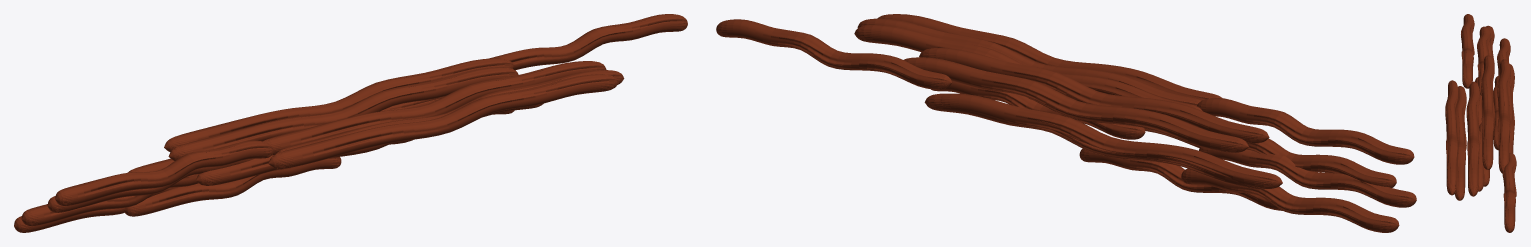
File: meatonly.fbx
3 renders of one model, left to right at view 1: azimuth 30°, elevation 25°; view 2: azimuth 150°, elevation 25°; view 3: azimuth 270°, elevation 25°, orthographic. The views are drawn at different scales.
Visible parts, largest first — view 1: Cylinder, Cylinder.001, Cylinder.009, Cylinder.002, Cylinder.004, Cylinder.007, Cylinder.018, Cylinder.021, Cylinder.005, Cylinder.014, Cylinder.003, Cylinder.020 (+1 smaller); view 2: Cylinder.004, Cylinder.022, Cylinder.001, Cylinder.007, Cylinder.002, Cylinder.021, Cylinder.020, Cylinder, Cylinder.009, Cylinder.014, Cylinder.003, Cylinder.019 (+2 smaller); view 3: Cylinder.001, Cylinder.009, Cylinder.004, Cylinder, Cylinder.014, Cylinder.007, Cylinder.002, Cylinder.003, Cylinder.005, Cylinder.022, Cylinder.018, Cylinder.020 (+2 smaller).
Boxes of the visible parts, left/top/right/bottom form: Cylinder: left=268, top=74, right=618, bottom=168; Cylinder.001: left=168, top=67, right=518, bottom=160; Cylinder.009: left=263, top=61, right=606, bottom=155; Cylinder.002: left=55, top=140, right=273, bottom=205; Cylinder.004: left=164, top=58, right=513, bottom=151; Cylinder.007: left=489, top=14, right=687, bottom=70; Cylinder.018: left=124, top=157, right=341, bottom=216; Cylinder.021: left=21, top=174, right=198, bottom=226; Cylinder.005: left=196, top=103, right=543, bottom=185; Cylinder.014: left=276, top=70, right=624, bottom=153; Cylinder.003: left=47, top=158, right=254, bottom=212; Cylinder.020: left=14, top=187, right=177, bottom=232; Cylinder.004: left=904, top=57, right=1248, bottom=152; Cylinder.022: left=940, top=93, right=1282, bottom=188; Cylinder.001: left=919, top=48, right=1269, bottom=143; Cylinder.007: left=716, top=19, right=951, bottom=89; Cylinder.002: left=1197, top=98, right=1414, bottom=164; Cylinder.021: left=1199, top=147, right=1416, bottom=207; Cylinder.020: left=1181, top=168, right=1399, bottom=232; Cylinder: left=877, top=14, right=1222, bottom=100; Cylinder.009: left=854, top=25, right=1202, bottom=111; Cylinder.014: left=857, top=18, right=1201, bottom=105; Cylinder.003: left=1246, top=138, right=1396, bottom=187; Cylinder.019: left=924, top=93, right=1262, bottom=188; Cylinder.001: left=1481, top=55, right=1494, bottom=169; Cylinder.009: left=1466, top=81, right=1480, bottom=196; Cylinder.004: left=1497, top=59, right=1510, bottom=173; Cylinder: left=1445, top=80, right=1457, bottom=195; Cylinder.014: left=1454, top=86, right=1466, bottom=200; Cylinder.007: left=1503, top=152, right=1516, bottom=232; Cylinder.002: left=1461, top=14, right=1474, bottom=88; Cylinder.003: left=1477, top=26, right=1490, bottom=95; Cylinder.005: left=1475, top=77, right=1484, bottom=191; Cylinder.022: left=1509, top=64, right=1514, bottom=153; Cylinder.018: left=1493, top=76, right=1498, bottom=150; Cylinder.020: left=1497, top=38, right=1510, bottom=81.
Size of the model in its own units: 174 by 18.46 by 24.56.
